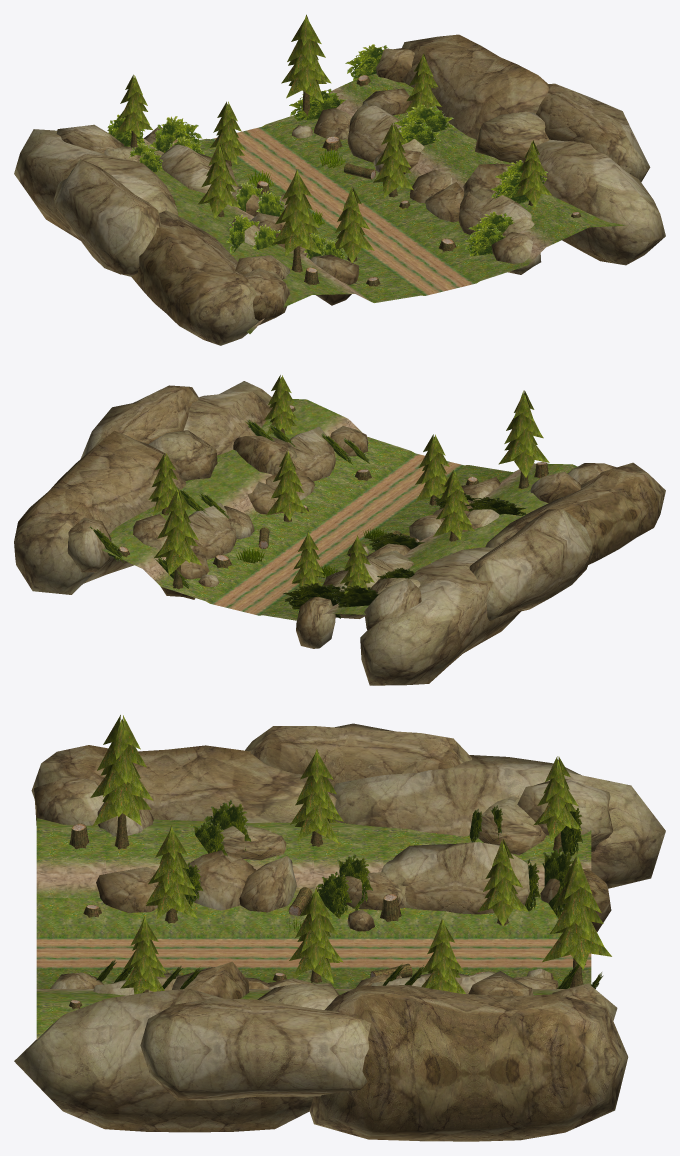
The model's file is BikeRoad04.FBX.
3 renders of one model, top to bottom at view 1: azimuth 30°, elevation 25°; view 2: azimuth 150°, elevation 25°; view 3: azimuth 270°, elevation 25°, orthographic. The views are drawn at different scales.
Visible parts, largest first — view 1: Rock (×21), Ground, Tree (×9), GrassPlane (×11); view 2: Rock (×24), Ground, Tree (×9), GrassPlane (×3); view 3: Rock (×23), Ground, Tree (×9), GrassPlane (×6).
Boxes of the visible parts, x1,y1,x2,y2 form: Rock (×21): [14, 34, 665, 345]; Ground: [128, 73, 628, 333]; Tree (×9): [115, 14, 551, 272]; GrassPlane (×11): [107, 44, 528, 256]; Rock (×24): [14, 381, 665, 685]; Ground: [102, 399, 577, 620]; Tree (×9): [148, 375, 549, 596]; GrassPlane (×3): [283, 499, 526, 618]; Rock (×23): [14, 723, 665, 1141]; Ground: [36, 817, 591, 1039]; Tree (×9): [90, 715, 611, 994]; GrassPlane (×6): [193, 799, 582, 918].
Bounding box in the file's own units: 5442 × 1744 × 4703.
